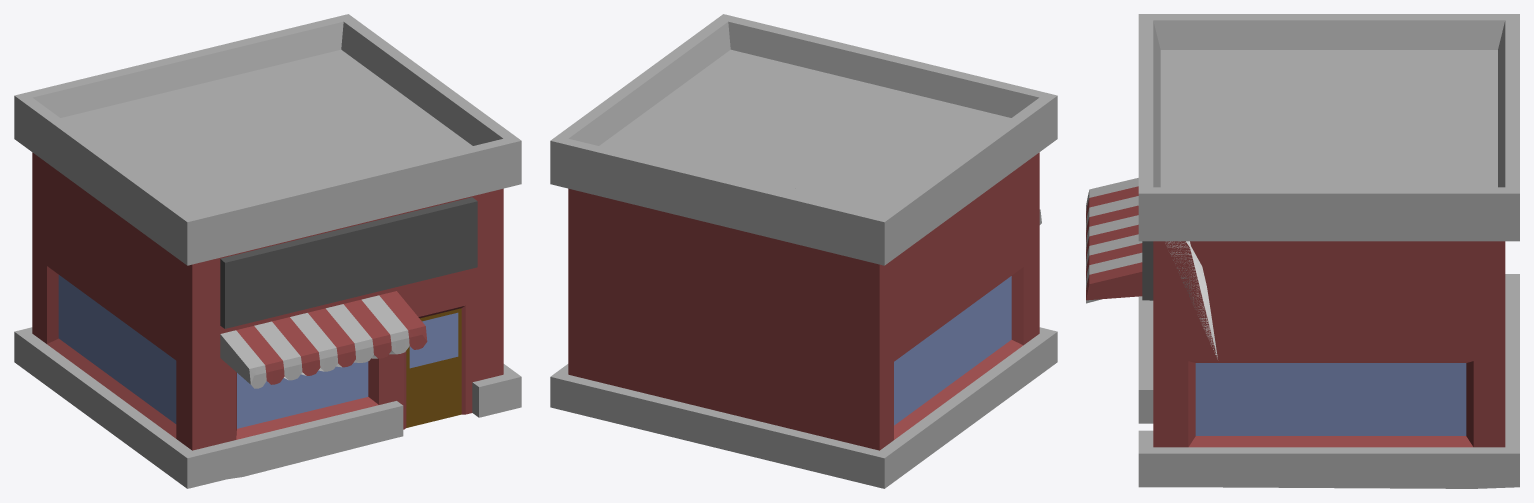
3 views of the same model, side by side, from view 1: azimuth 30°, elevation 25°; view 2: azimuth 150°, elevation 25°; view 3: azimuth 270°, elevation 25° (orthographic). The views are drawn at different scales.
Parts seen in each view (by area): view 1: Bottom, polySurface6, polySurface5; view 2: Bottom, polySurface5, polySurface6; view 3: polySurface5, Bottom, polySurface6.
Boxes of the visible parts, bbox=[...] form: Bottom: bbox=[14, 65, 521, 488]; polySurface6: bbox=[120, 31, 521, 349]; polySurface5: bbox=[137, 14, 521, 164]; Bottom: bbox=[550, 136, 1057, 488]; polySurface5: bbox=[550, 14, 897, 245]; polySurface6: bbox=[675, 16, 1057, 216]; polySurface5: bbox=[1138, 76, 1519, 377]; Bottom: bbox=[1086, 14, 1519, 488]; polySurface6: bbox=[1086, 14, 1505, 412].
Size of the model in its own units: 580 by 445 by 592.
